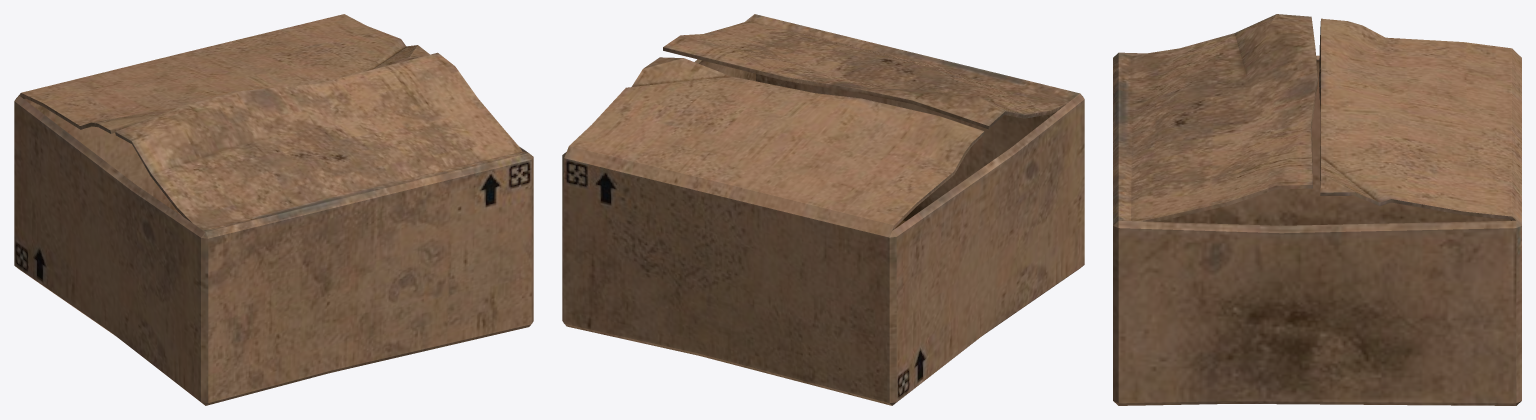
The model's file is SM_Cardboard_Box04.glb.
3 views of the same model, side by side, from view 1: azimuth 30°, elevation 25°; view 2: azimuth 150°, elevation 25°; view 3: azimuth 270°, elevation 25° (orthographic). The views are drawn at different scales.
Visible parts, largest first — view 1: SM_Cardboard_Box04; view 2: SM_Cardboard_Box04; view 3: SM_Cardboard_Box04.
Boxes of the visible parts, left/top/right/bottom form: SM_Cardboard_Box04: left=14, top=14, right=533, bottom=405; SM_Cardboard_Box04: left=562, top=14, right=1084, bottom=405; SM_Cardboard_Box04: left=1113, top=14, right=1521, bottom=405.
Size of the model in its own units: 0.5 by 0.3109 by 0.5.
Materials: 1 (1 with a texture image).
